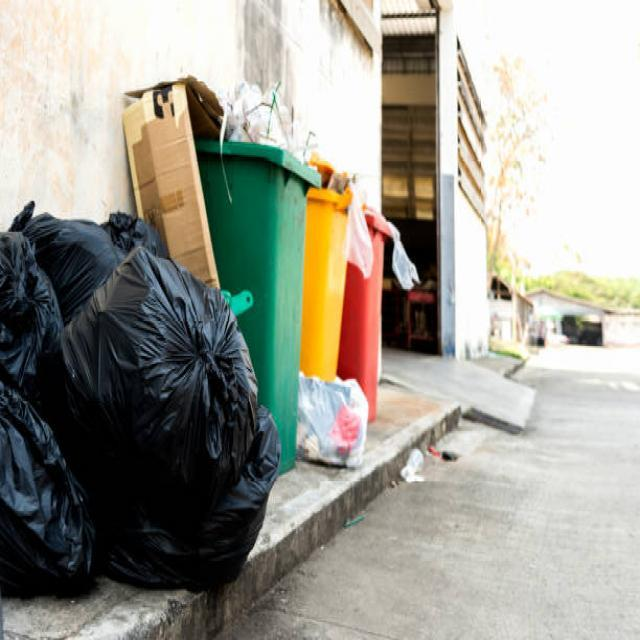garbage: (0, 203, 279, 600), (297, 366, 374, 472), (218, 80, 317, 162), (395, 442, 465, 485)
